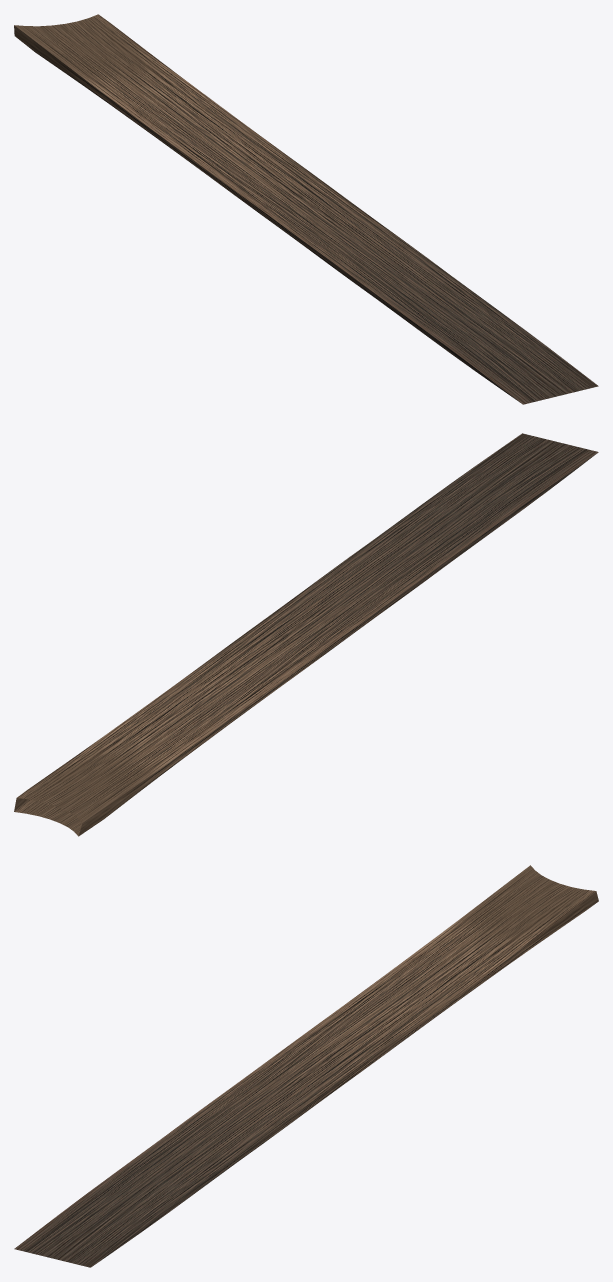
The model's file is Hair_Strand_Part_1_7.fbx.
3 renders of one model, top to bottom at view 1: azimuth 30°, elevation 25°; view 2: azimuth 150°, elevation 25°; view 3: azimuth 330°, elevation 25°, orthographic.
Parts seen in each view (by area): view 1: Hair_Strand_Part_1; view 2: Hair_Strand_Part_1; view 3: Hair_Strand_Part_1.
Part boxes in pixels (x1,y1,x2,y2): Hair_Strand_Part_1: (14, 14, 598, 404); Hair_Strand_Part_1: (14, 433, 598, 836); Hair_Strand_Part_1: (14, 865, 598, 1267).
Bounding box in the file's own units: 8.76 × 1.39 × 102.
